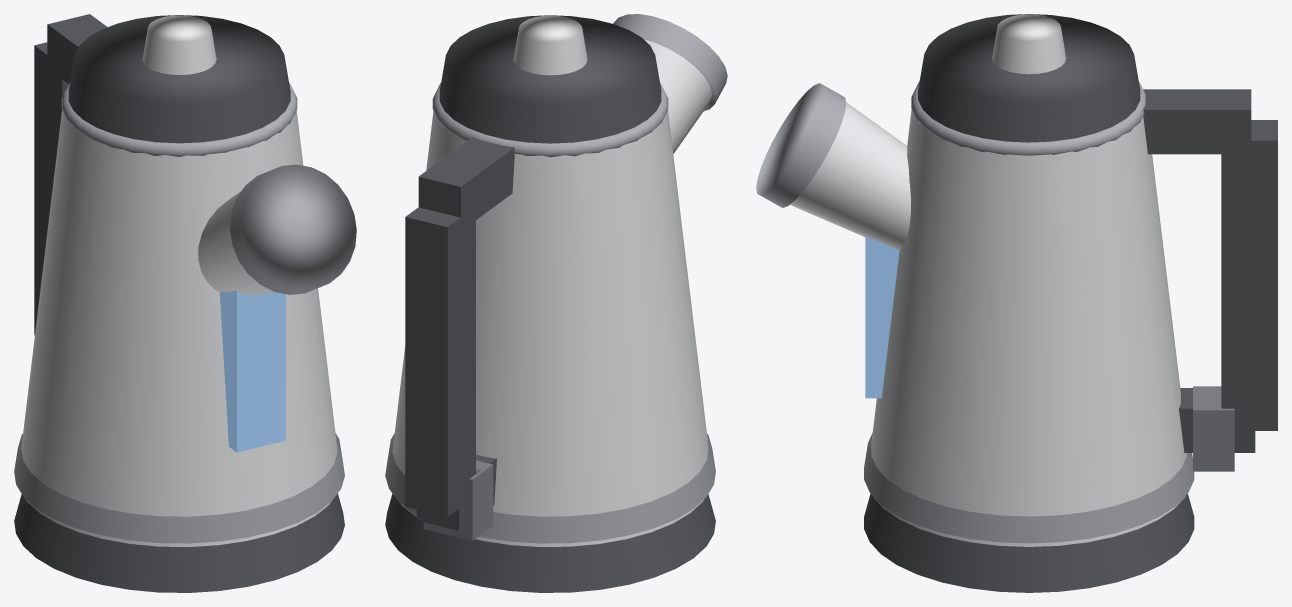
The model's file is electric-kettle.glb.
3 views of the same model, side by side, from view 1: azimuth 30°, elevation 25°; view 2: azimuth 150°, elevation 25°; view 3: azimuth 270°, elevation 25° (orthographic).
Parts seen in each view (by area): view 1: body, lid, base, spout-lip, body-ring, window, handle-grip, lid-knob, lid-seam, spout, handle-arm; view 2: body, handle-grip, lid, base, body-ring, handle-arm, lid-knob, spout, lid-seam, spout-lip, switch, handle-foot; view 3: body, lid, handle-grip, base, spout, body-ring, handle-arm, spout-lip, window, lid-knob, lid-seam, switch (+1 smaller).
Part boxes in pixels (x1,y1,x2,y2): body: (21,110,337,546); lid: (68,15,290,143); base: (14,493,344,592); spout-lip: (230,164,356,294); body-ring: (14,433,344,543); window: (220,291,285,452); handle-grip: (34,42,68,335); lid-knob: (142,15,216,74); lid-seam: (61,82,297,156); spout: (198,191,273,294); handle-arm: (47,14,107,83); body: (392,110,708,546); handle-grip: (405,207,475,516); lid: (439,15,661,143); base: (385,493,715,592); body-ring: (385,433,715,543); handle-arm: (418,137,514,230); lid-knob: (513,15,587,75); spout: (644,39,711,153); lid-seam: (432,82,668,157); spout-lip: (613,14,727,111); switch: (423,460,493,540); handle-foot: (416,454,496,530); body: (871,110,1186,546); lid: (918,14,1140,142); handle-grip: (1221,120,1277,430); base: (864,493,1194,592); spout: (790,102,910,250); body-ring: (864,433,1194,543); handle-arm: (1143,89,1251,154); spout-lip: (756,83,846,207); window: (865,236,899,398); lid-knob: (992,14,1066,74); lid-seam: (911,81,1145,155); switch: (1193,386,1234,471).
Bounding box in the file's own units: 0.176 × 0.29 × 0.277.
